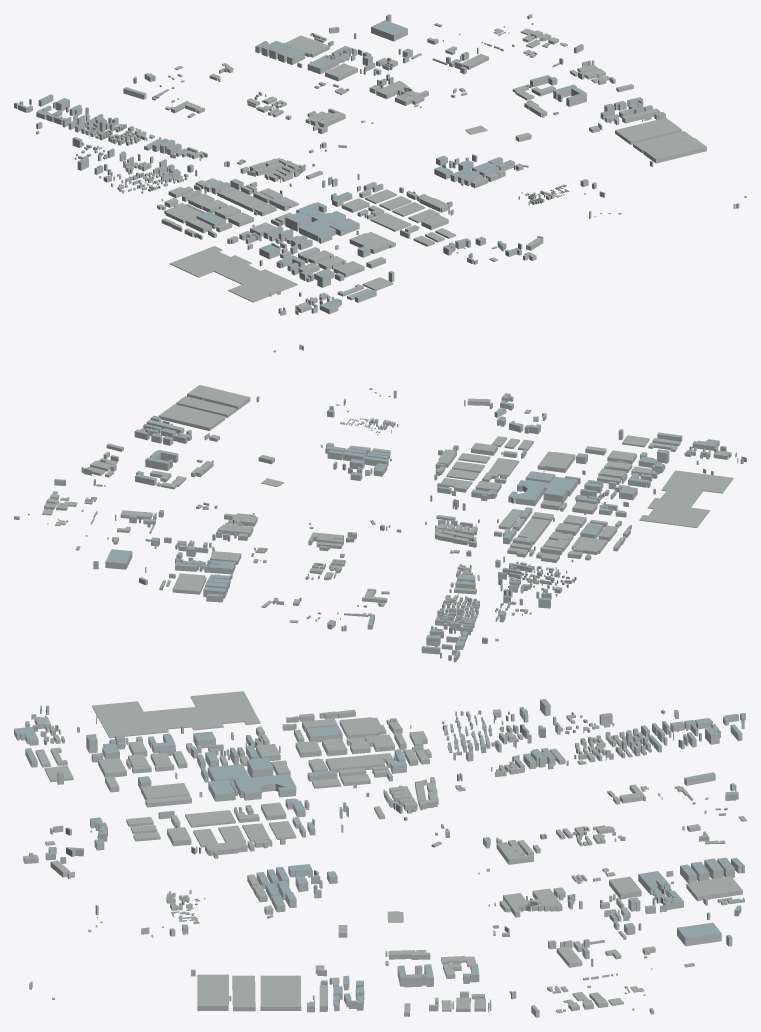
File: far.glb
The picture shows the model from 3 angles, top to bottom: view 1: azimuth 30°, elevation 25°; view 2: azimuth 150°, elevation 25°; view 3: azimuth 270°, elevation 25°; orthographic projection. The views are drawn at different scales.
Size of the model in its own units: 2249 by 41 by 2140.
